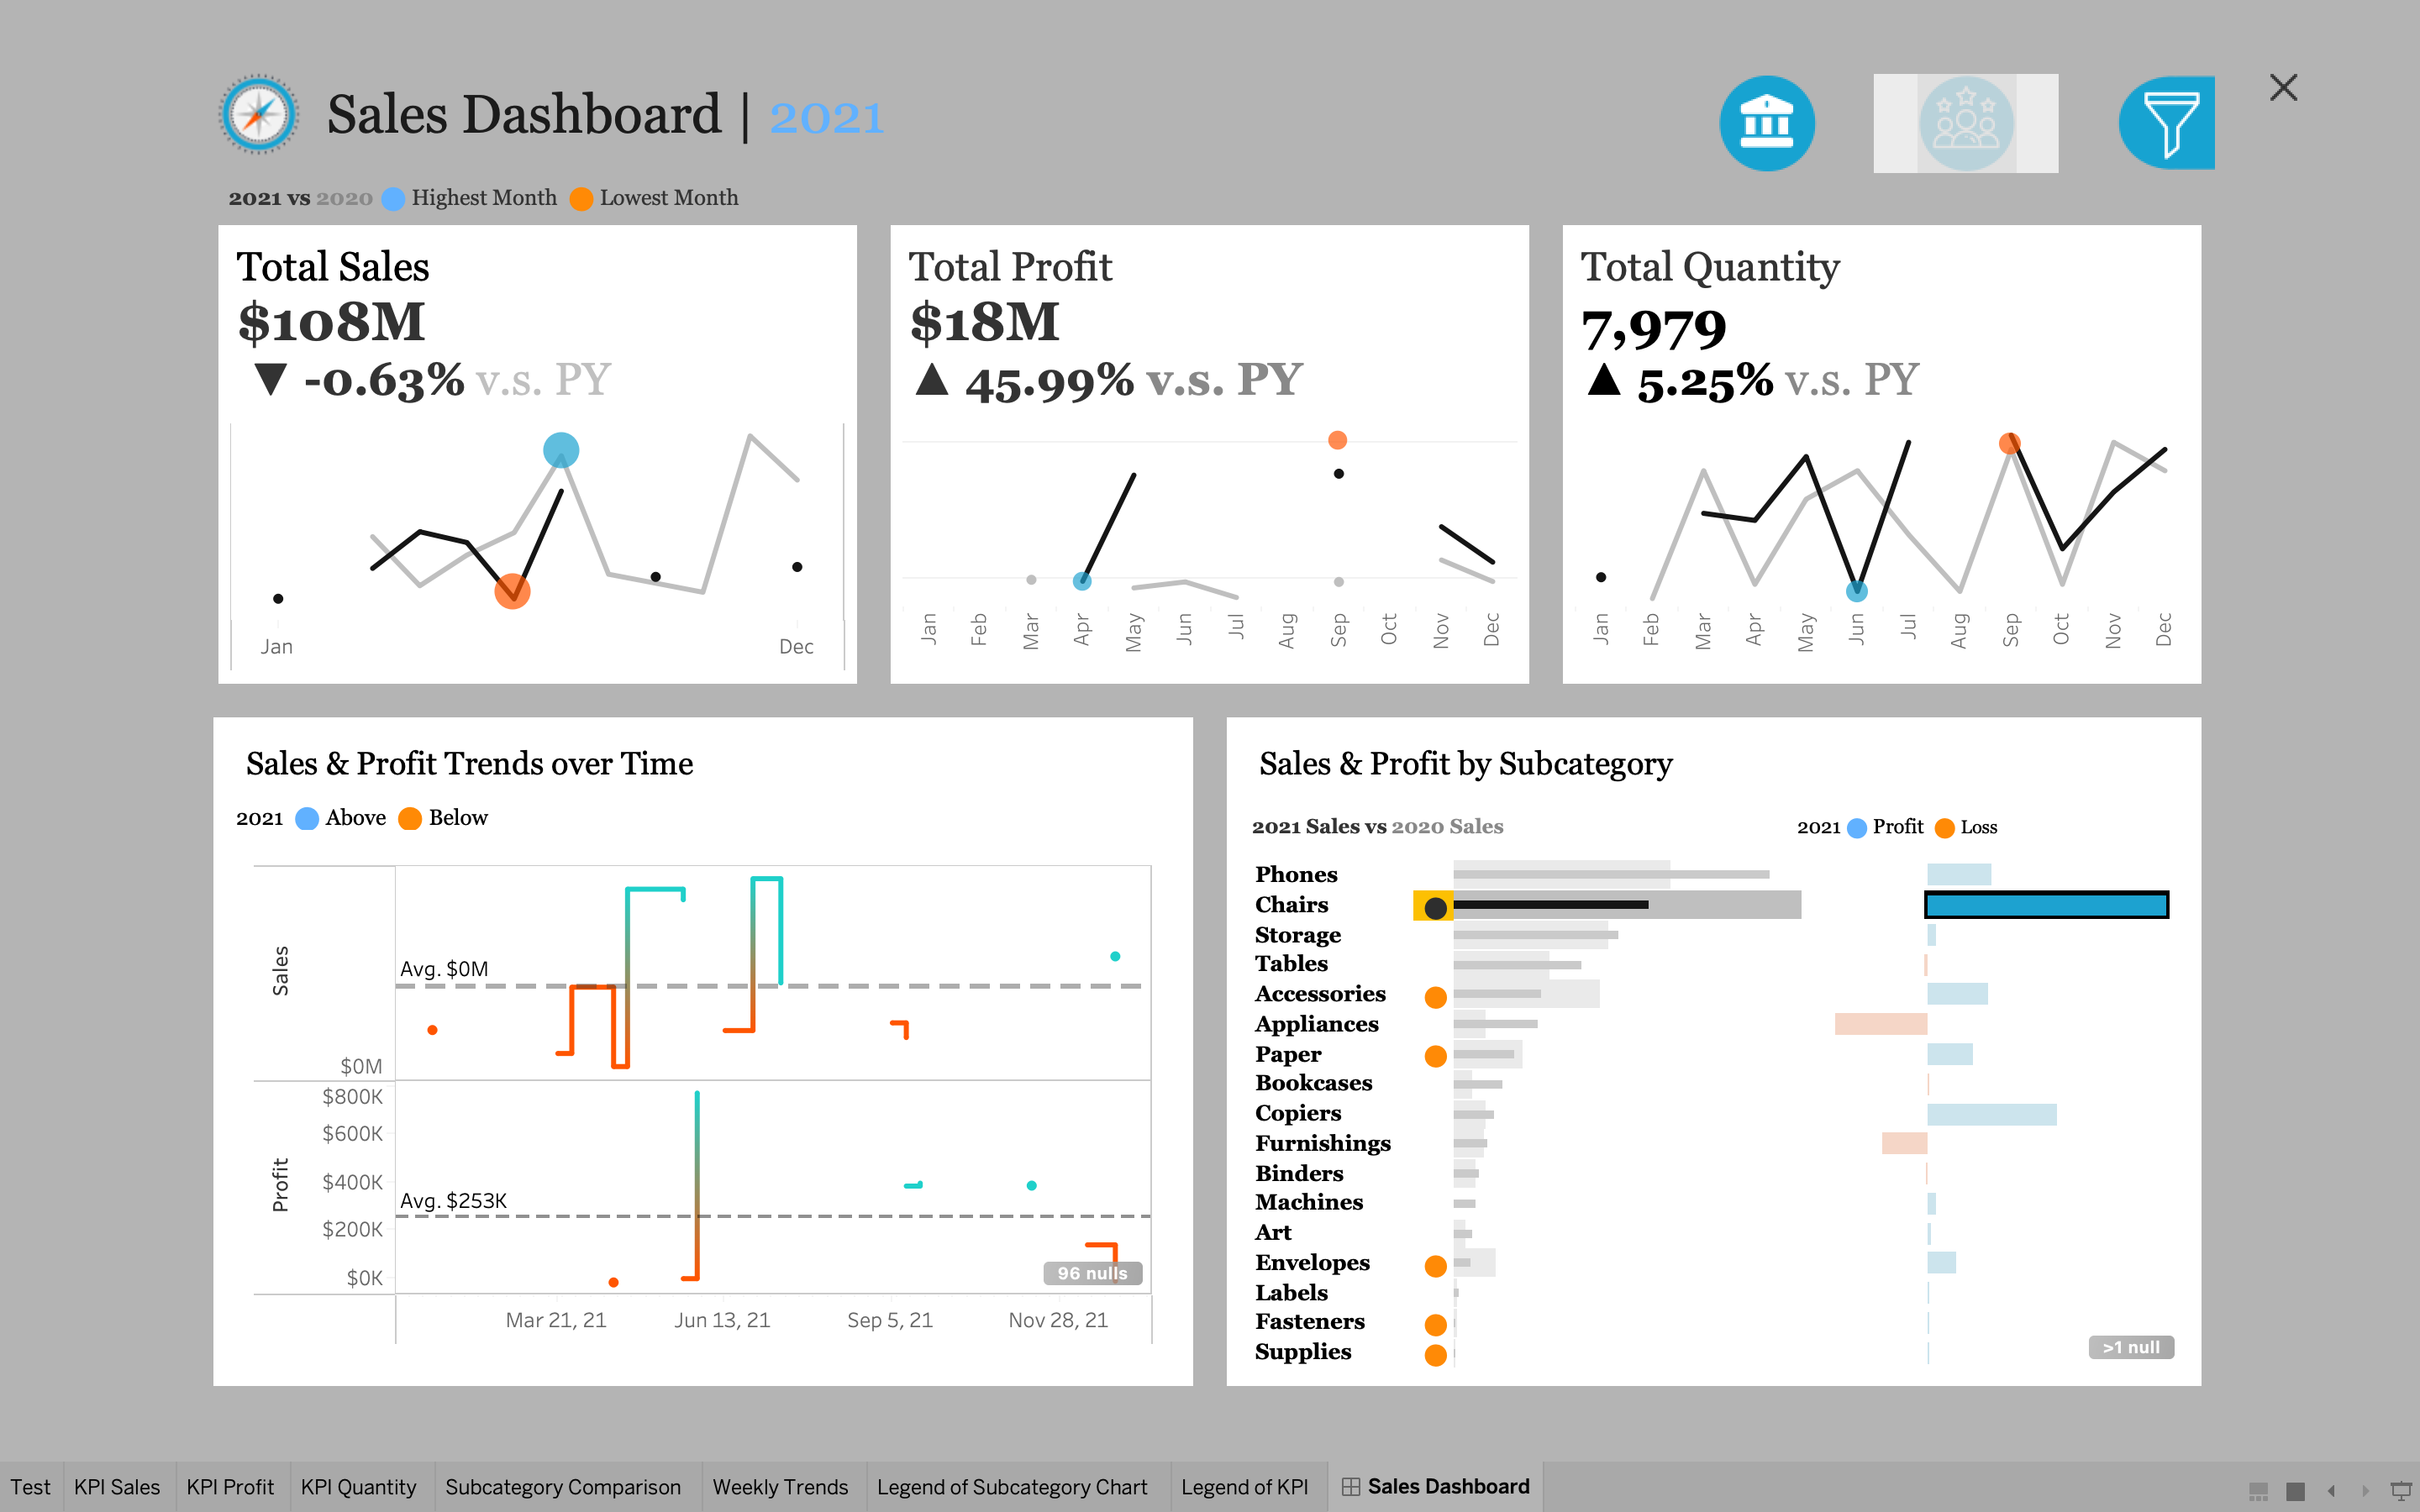

The dashboard page shown, as its layout file describes it:
{"tool":"tableau","page":{"name":"Sales Dashboard","canvas":[1200,800],"ordinal":0},"visuals":[{"type":"image","param":"Image/Icon - Logo.png","box":[0,0,68,67]},{"type":"text","box":[68,0,774,67]},{"type":"dashboard-object","box":[872,5,119,67]},{"type":"dashboard-object","box":[991,5,118,67]},{"type":"text","box":[1010,22,165,34]},{"type":"blank","box":[1010,56,165,32]},{"type":"worksheet","title":"Legend of KPI","mark":"Automatic","box":[0,67,1200,32]},{"type":"parameter","param":"[Parameters].[Parameter 0420630438912004]","box":[1010,88,165,35]},{"type":"worksheet","title":"KPI Sales","mark":"Automatic","rows":["Calculation_0420630443028487"],"cols":["Order Date"],"box":[0,99,400,283]},{"type":"worksheet","title":"KPI Profit","mark":"Automatic","rows":["min/ max sales (copy)_0420630486798354"],"cols":["Order Date"],"box":[400,99,400,283]},{"type":"worksheet","title":"KPI Quantity","mark":"Automatic","rows":["min/ max profit (copy)_0420630514769943"],"cols":["Order Date"],"box":[800,99,400,283]},{"type":"text","box":[1010,123,165,23]},{"type":"filter","title":"KPI Sales","param":"[federated.010s6qv1yrsp8n118k5511jhjum3].[none:Category:nk]","box":[1010,146,165,52]},{"type":"filter","title":"KPI Sales","param":"[federated.010s6qv1yrsp8n118k5511jhjum3].[none:Sub-Category:nk]","box":[1010,198,165,53]},{"type":"blank","box":[1010,251,165,32]},{"type":"text","box":[1010,283,165,23]},{"type":"filter","title":"KPI Sales","param":"[federated.010s6qv1yrsp8n118k5511jhjum3].[none:Region:nk]","box":[1010,306,165,52]},{"type":"filter","title":"KPI Sales","param":"[federated.010s6qv1yrsp8n118k5511jhjum3].[none:State:nk]","box":[1010,358,165,52]},{"type":"text","box":[14,399,569,41]},{"type":"text","box":[617,399,566,42]},{"type":"filter","title":"KPI Sales","param":"[federated.010s6qv1yrsp8n118k5511jhjum3].[none:City:nk]","box":[1010,410,165,43]},{"type":"text","box":[14,440,569,23]},{"type":"worksheet","title":"Legend of Subcategory Chart","mark":"Automatic","box":[617,441,326,32]},{"type":"text","box":[943,441,240,32]},{"type":"worksheet","title":"Weekly Trends","mark":"Automatic","rows":["Calculation_0420630438146048","Calculation_0420630484332556"],"cols":["Order Date"],"box":[14,463,569,320]},{"type":"worksheet","title":"Subcategory Comparison","mark":"Bar","rows":["Sub-Category","Calculation_0420630522867740"],"cols":["Calculation_0420630438481921","Calculation_0420630438146048","Calculation_0420630484332556"],"box":[617,473,566,310]}]}

Visuals, with their boxes on the page's 1200x800 design canvas (x1, y1, x2, y2). These are canvas units, not pixel positions in the 2420x1512 screenshot, which may show the page scaled, cropped or inside an application window:
image: [x1=0, y1=0, x2=68, y2=67]
text: [x1=68, y1=0, x2=842, y2=67]
dashboard-object: [x1=872, y1=5, x2=991, y2=72]
dashboard-object: [x1=991, y1=5, x2=1109, y2=72]
text: [x1=1010, y1=22, x2=1175, y2=56]
blank: [x1=1010, y1=56, x2=1175, y2=88]
"Legend of KPI" worksheet: [x1=0, y1=67, x2=1200, y2=99]
parameter: [x1=1010, y1=88, x2=1175, y2=123]
"KPI Sales" worksheet: [x1=0, y1=99, x2=400, y2=382]
"KPI Profit" worksheet: [x1=400, y1=99, x2=800, y2=382]
"KPI Quantity" worksheet: [x1=800, y1=99, x2=1200, y2=382]
text: [x1=1010, y1=123, x2=1175, y2=146]
"KPI Sales" filter: [x1=1010, y1=146, x2=1175, y2=198]
"KPI Sales" filter: [x1=1010, y1=198, x2=1175, y2=251]
blank: [x1=1010, y1=251, x2=1175, y2=283]
text: [x1=1010, y1=283, x2=1175, y2=306]
"KPI Sales" filter: [x1=1010, y1=306, x2=1175, y2=358]
"KPI Sales" filter: [x1=1010, y1=358, x2=1175, y2=410]
text: [x1=14, y1=399, x2=583, y2=440]
text: [x1=617, y1=399, x2=1183, y2=441]
"KPI Sales" filter: [x1=1010, y1=410, x2=1175, y2=453]
text: [x1=14, y1=440, x2=583, y2=463]
"Legend of Subcategory Chart" worksheet: [x1=617, y1=441, x2=943, y2=473]
text: [x1=943, y1=441, x2=1183, y2=473]
"Weekly Trends" worksheet: [x1=14, y1=463, x2=583, y2=783]
"Subcategory Comparison" worksheet (Bar marks): [x1=617, y1=473, x2=1183, y2=783]
